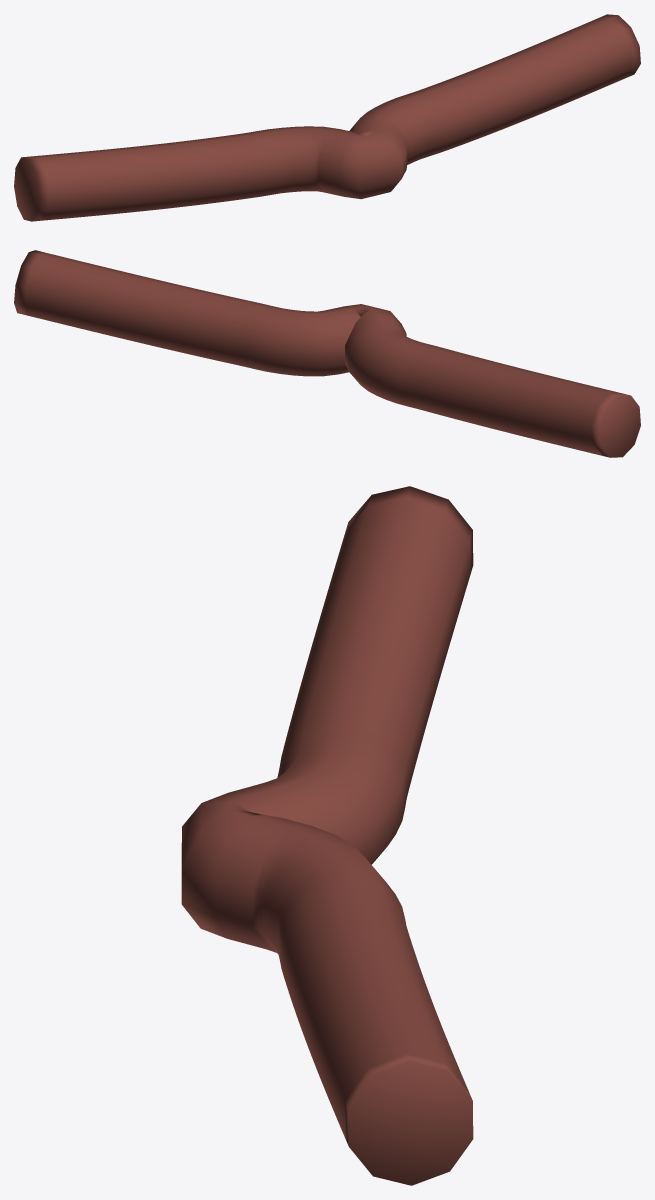
Rendered from 2HT-feminino.glb.
3 views of the same model, one above another, from view 1: azimuth 30°, elevation 25°; view 2: azimuth 150°, elevation 25°; view 3: azimuth 270°, elevation 25° (orthographic). The views are drawn at different scales.
Visible parts, largest first — view 1: mouth-relief; view 2: mouth-relief; view 3: mouth-relief.
Boxes of the visible parts, left/top/right/bottom form: mouth-relief: left=14, top=14, right=640, bottom=221; mouth-relief: left=14, top=250, right=640, bottom=457; mouth-relief: left=181, top=486, right=473, bottom=1185.
Size of the model in its own units: 0.0137 by 0.00165 by 0.00287.
